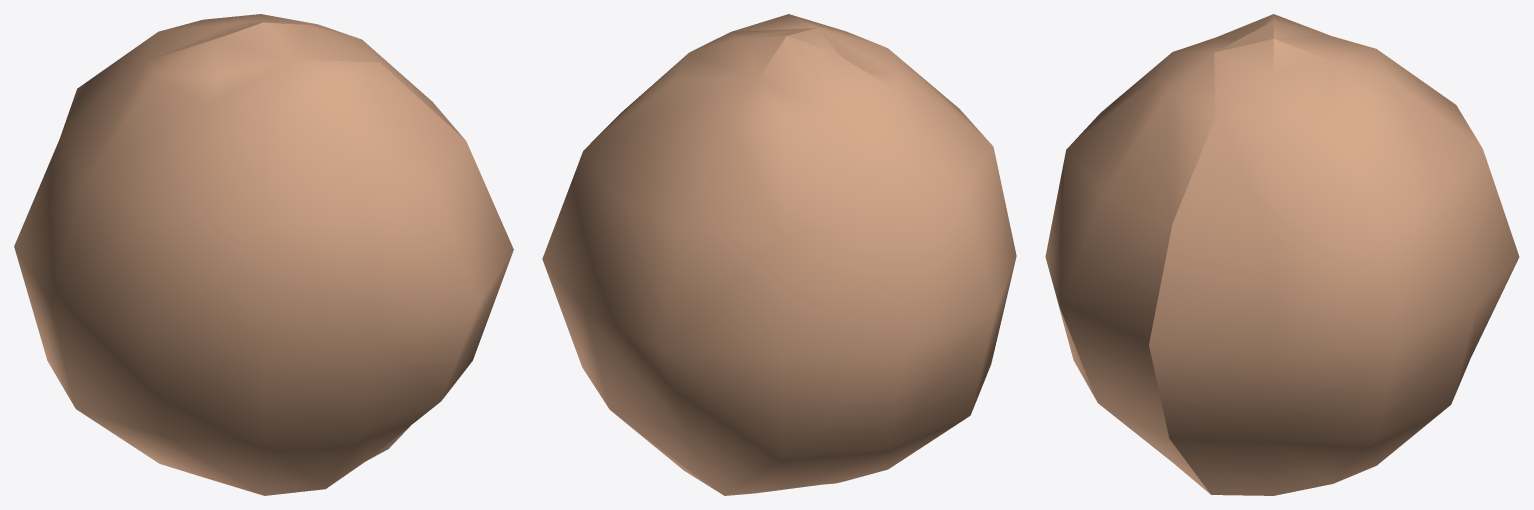
The model's file is rock_010.fbx.
3 views of the same model, side by side, from view 1: azimuth 30°, elevation 25°; view 2: azimuth 150°, elevation 25°; view 3: azimuth 270°, elevation 25° (orthographic). The views are drawn at different scales.
Visible parts, largest first — view 1: Rock; view 2: Rock; view 3: Rock.
Part boxes in pixels (<box>): Rock: <box>14,14,513,495</box>; Rock: <box>542,14,1016,495</box>; Rock: <box>1045,14,1519,495</box>.
Size of the model in its own units: 1.27 by 1.27 by 1.27.
